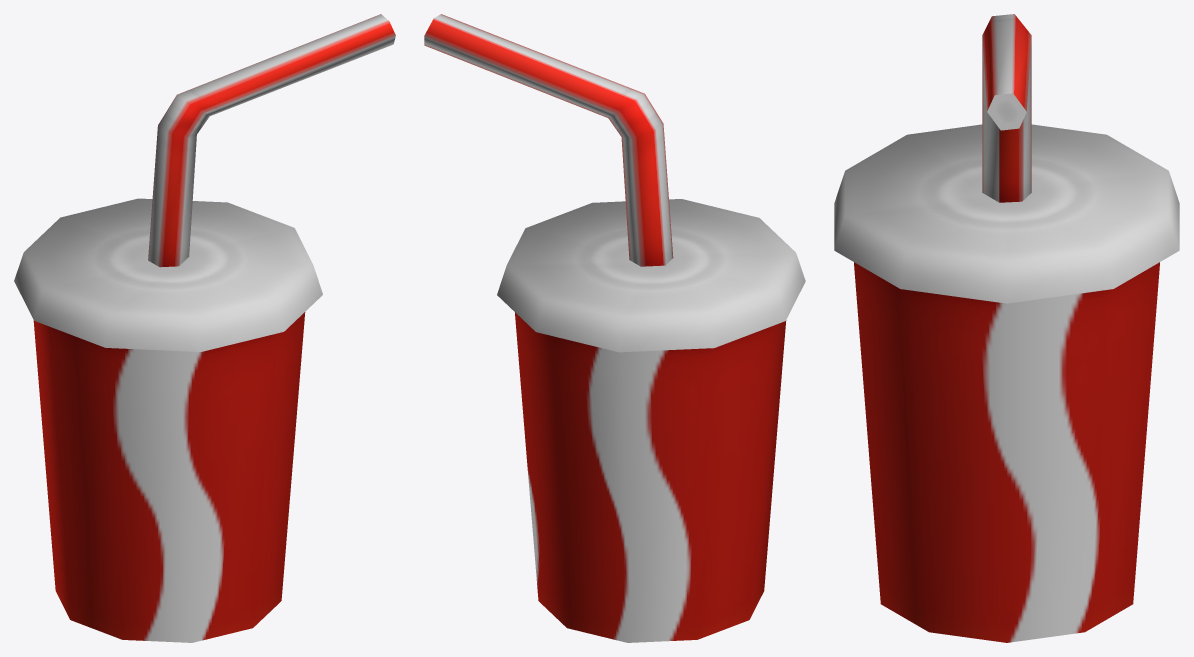
File: CafeFood01_9.FBX
3 views of the same model, side by side, from view 1: azimuth 30°, elevation 25°; view 2: azimuth 150°, elevation 25°; view 3: azimuth 270°, elevation 25° (orthographic). The views are drawn at different scales.
Visible parts, largest first — view 1: CafeFood01_9; view 2: CafeFood01_9; view 3: CafeFood01_9.
Part boxes in pixels (box(x1,y1,x2,y2)): CafeFood01_9: box(14, 14, 395, 642); CafeFood01_9: box(424, 14, 805, 642); CafeFood01_9: box(834, 14, 1179, 642).
Size of what is drawn, in the model's own units: 0.1691 by 0.2388 by 0.1213.
